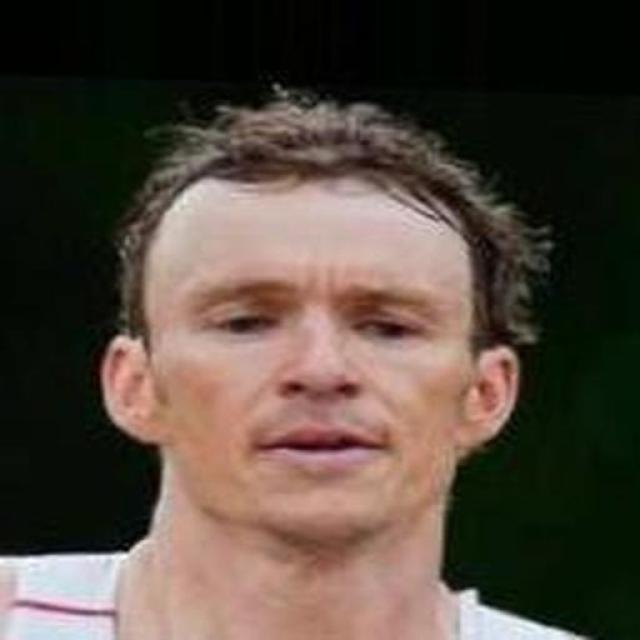bareface: (173, 196, 458, 520)
